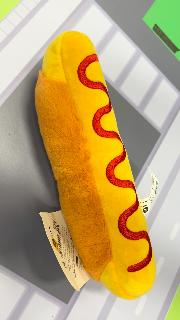hotdog: (34, 30, 158, 300)
